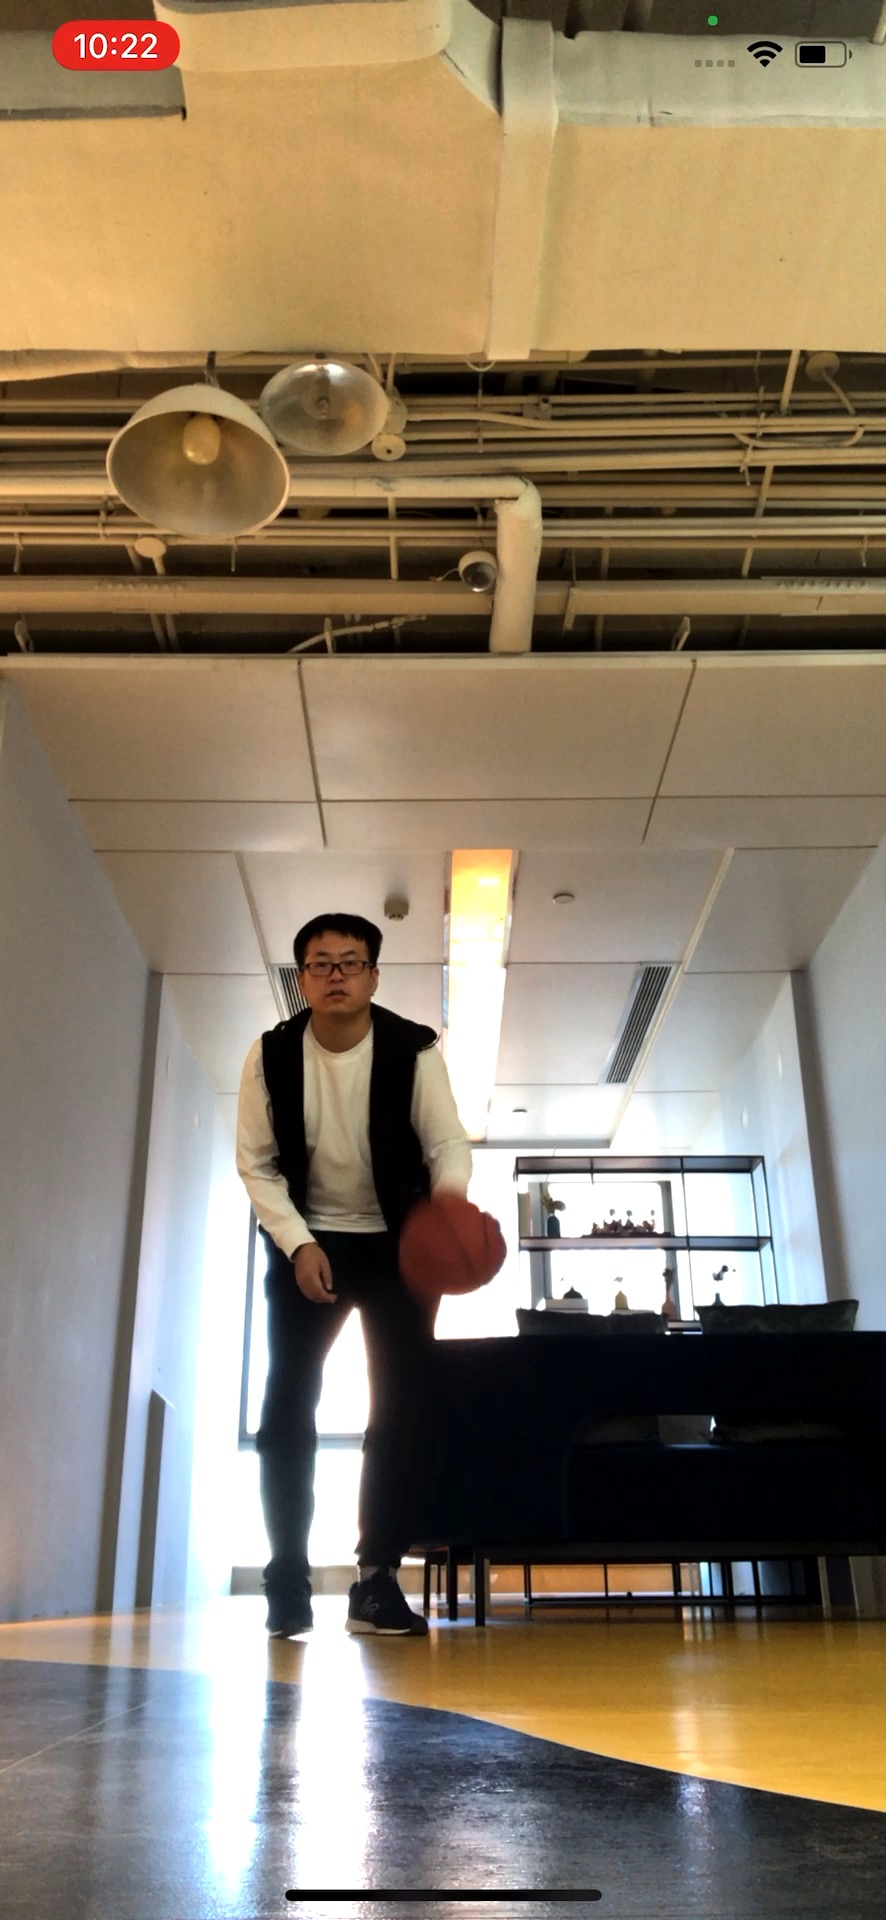ball: (396, 1194, 510, 1296)
